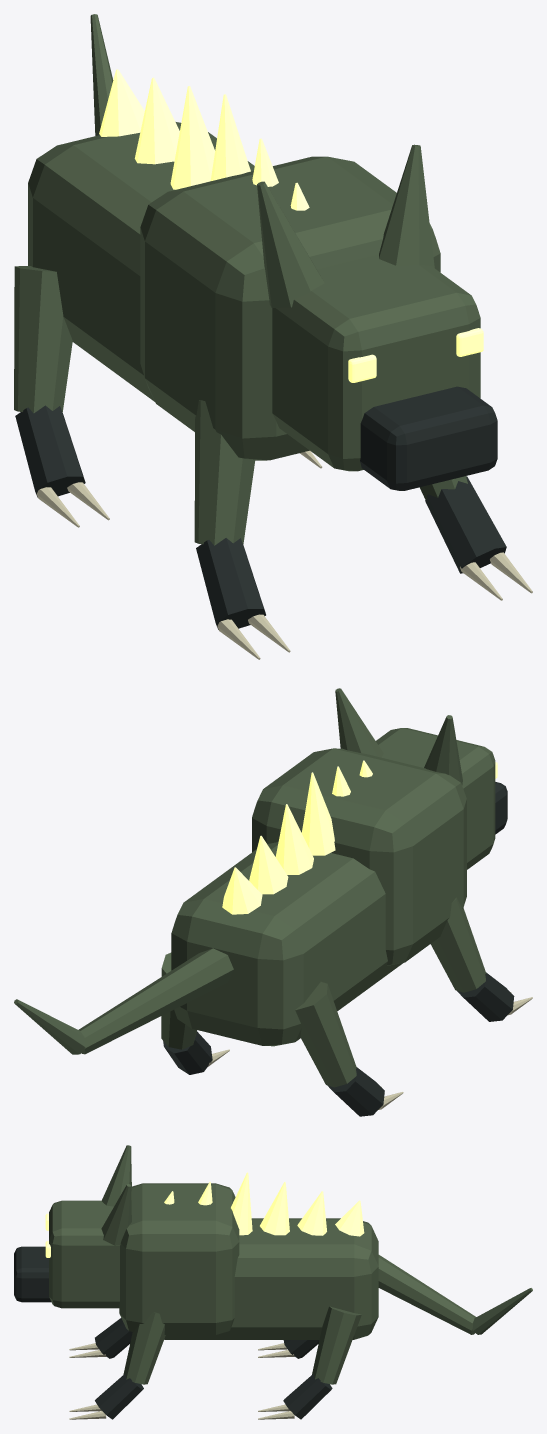
The model's file is mutant.glb.
The picture shows the model from 3 angles, top to bottom: view 1: azimuth 30°, elevation 25°; view 2: azimuth 150°, elevation 25°; view 3: azimuth 270°, elevation 25°; orthographic projection. The views are drawn at different scales.
Parts seen in each view (by area): view 1: shoulders, skull, haunch, jaw, crooked_leg.001, crooked_leg, ear, paw.002, ear.001, paw.001, paw, irradiated_spine.003 (+4 smaller); view 2: haunch, shoulders, tail, skull, crooked_leg.001, crooked_leg, irradiated_spine.002, ear.001, irradiated_spine.003, paw, paw.001, ear (+6 smaller); view 3: shoulders, haunch, skull, tail, crooked_leg.003, jaw, crooked_leg.002, paw.002, paw.003, ear.001, irradiated_spine.003, ear (+6 smaller).
Part boxes in pixels (x1,y1,x2,y2): shoulders: (140, 156, 440, 460); skull: (272, 254, 480, 471); haunch: (28, 122, 254, 401); jaw: (360, 386, 497, 490); crooked_leg.001: (14, 266, 72, 413); crooked_leg: (194, 400, 255, 545); ear: (257, 181, 324, 307); paw.002: (425, 476, 506, 573); ear.001: (379, 144, 434, 267); paw.001: (15, 405, 85, 497); paw: (196, 538, 265, 629); irradiated_spine.003: (170, 86, 214, 189); haunch: (171, 842, 402, 1046); shoulders: (252, 748, 466, 965); tail: (78, 948, 233, 1054); skull: (376, 728, 495, 869); crooked_leg.001: (295, 982, 356, 1087); crooked_leg: (430, 897, 486, 992); irradiated_spine.002: (301, 772, 335, 855); ear.001: (335, 688, 383, 757); irradiated_spine.003: (275, 804, 313, 874); paw: (457, 972, 514, 1021); paw.001: (327, 1067, 384, 1116); ear: (424, 715, 462, 785); shoulders: (119, 1183, 239, 1334); haunch: (164, 1218, 378, 1339); skull: (49, 1200, 119, 1308); tail: (378, 1255, 476, 1334); crooked_leg.003: (312, 1306, 361, 1384); jaw: (14, 1246, 51, 1302); crooked_leg.002: (123, 1312, 165, 1384); paw.002: (95, 1374, 143, 1419); paw.003: (283, 1374, 332, 1419); ear.001: (101, 1184, 131, 1245); irradiated_spine.003: (260, 1182, 289, 1235); ear: (101, 1145, 131, 1206).
Bounding box in the file's own units: 1.35 × 1.91 × 4.02.
